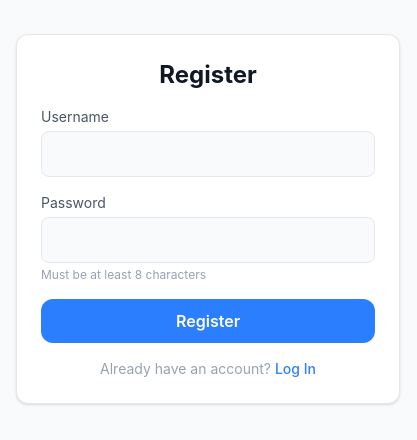
Test: Register › shows the error message when registration fails
Step 1. Type "alice" into the field labelled "Username" → (208, 154), box [41, 131, 375, 177]
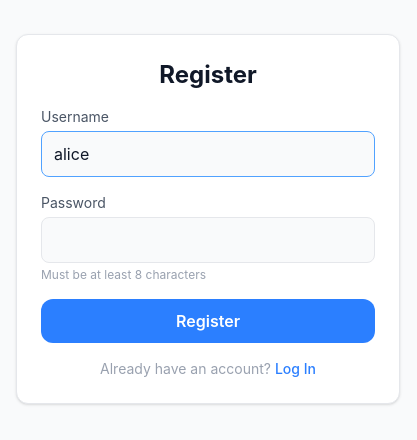
Step 2. Type "hunter2!" into the password field labelled "Password" → (208, 240), box [41, 217, 375, 263]
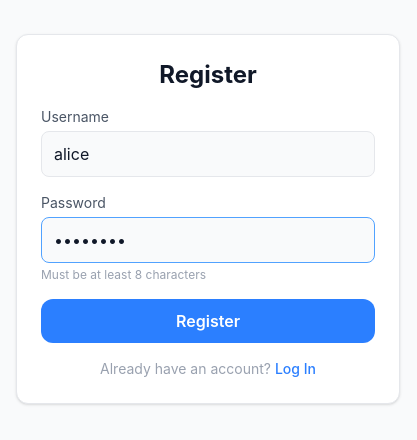
Step 3. Click the button "Register" → click(208, 321), box [41, 299, 375, 343]
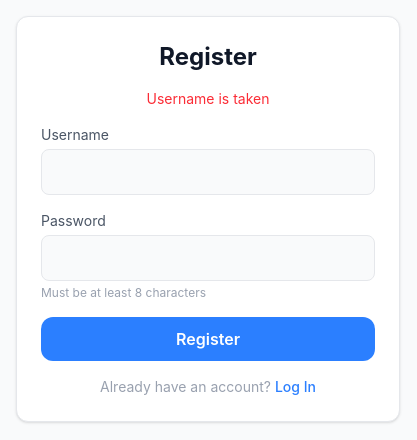
expect the text "Username is taken" is shown: met, box [146, 90, 270, 107]
